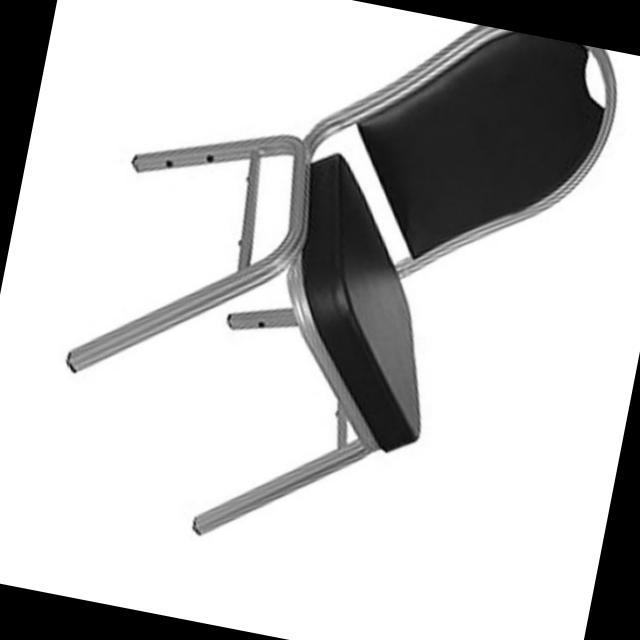chair: (36, 0, 633, 604)
